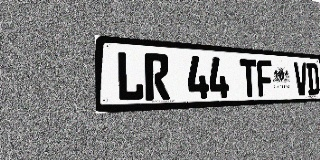4: (187, 55, 209, 99), (208, 57, 229, 98)
D: (306, 63, 320, 95)
F: (257, 60, 274, 97)
L: (116, 51, 144, 102)
R: (144, 53, 170, 101)
T: (240, 59, 258, 97)
V: (294, 62, 308, 95)
